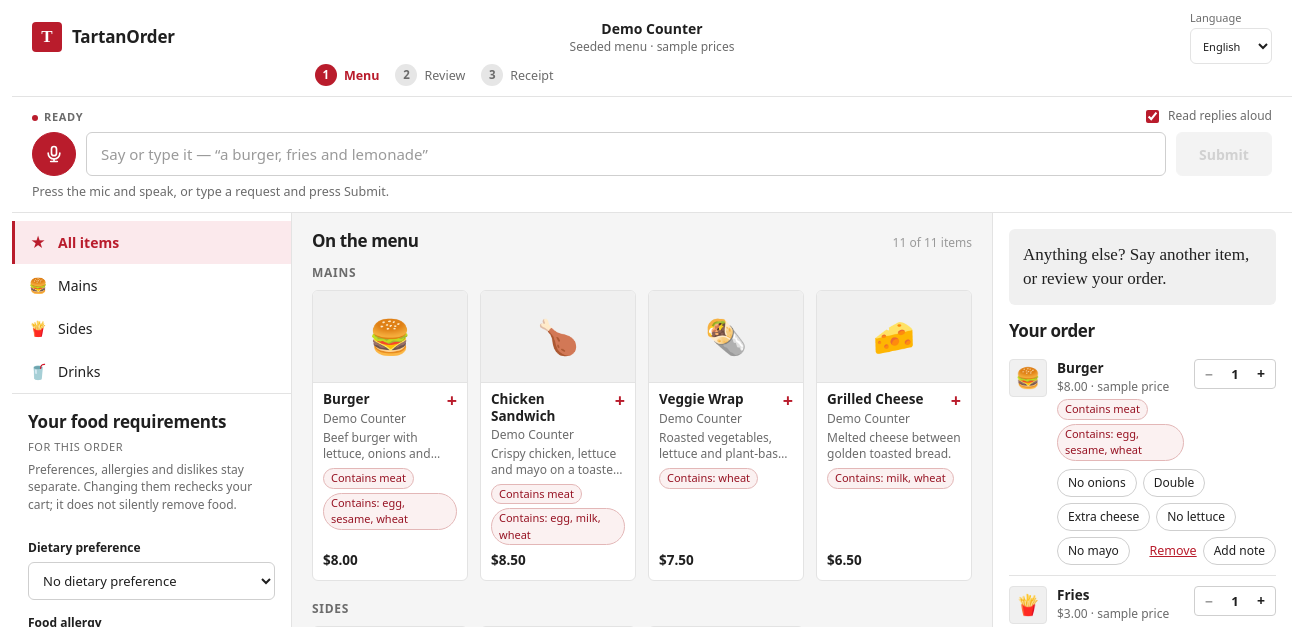
Scenario: Kiosk (fake controller, mocked voice) › Talk is idempotent while a capture is opening: one startInput for repeated presses
Click the button with test id "talk" at (54, 154), box [32,132,76,176]
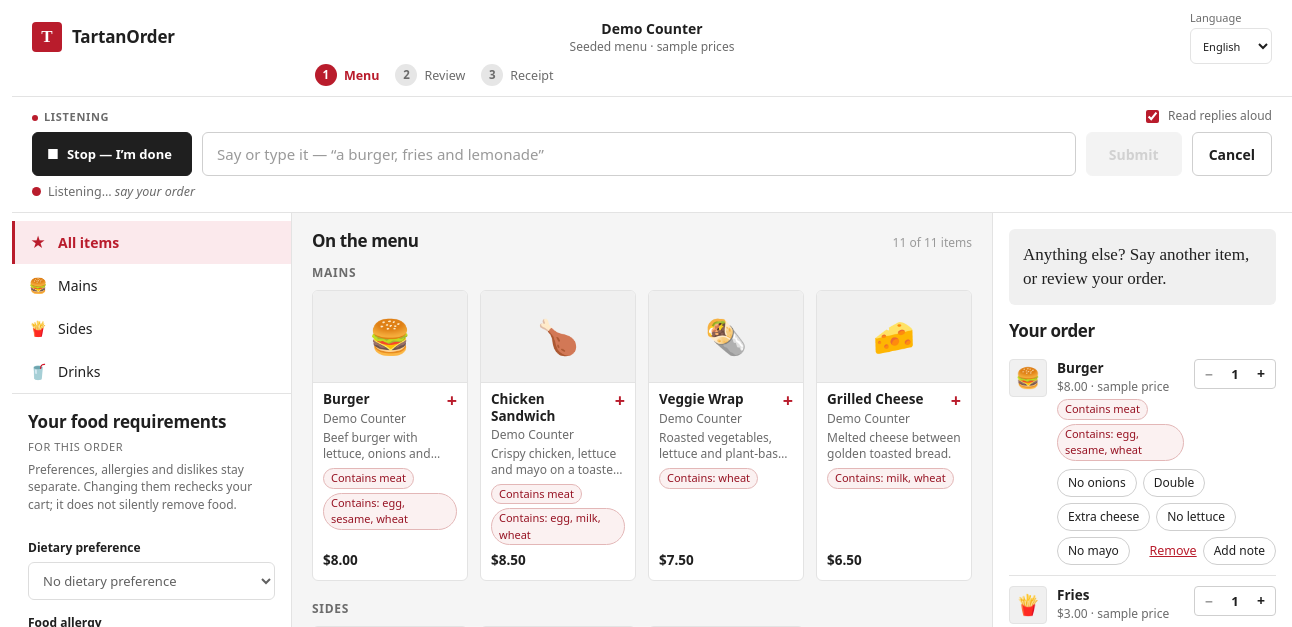
Expected: the button with test id "stop-talk" shows "Stop — I’m done", [32,132,192,176]
